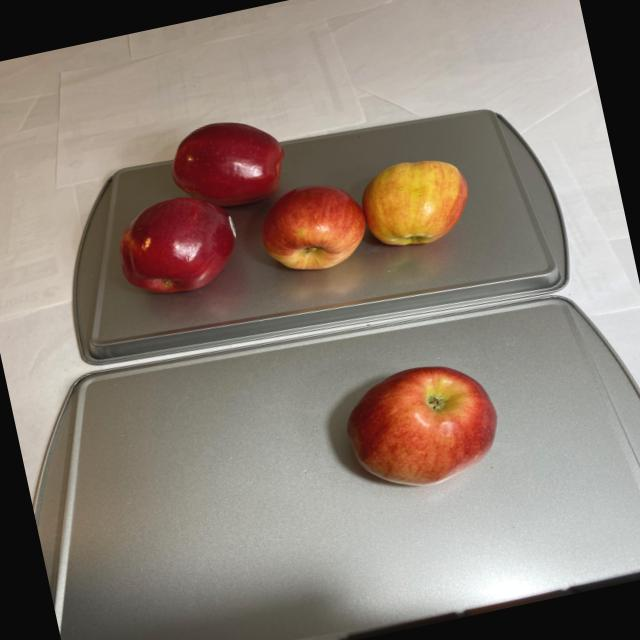apple: (90, 74, 479, 310), (330, 350, 508, 502)
